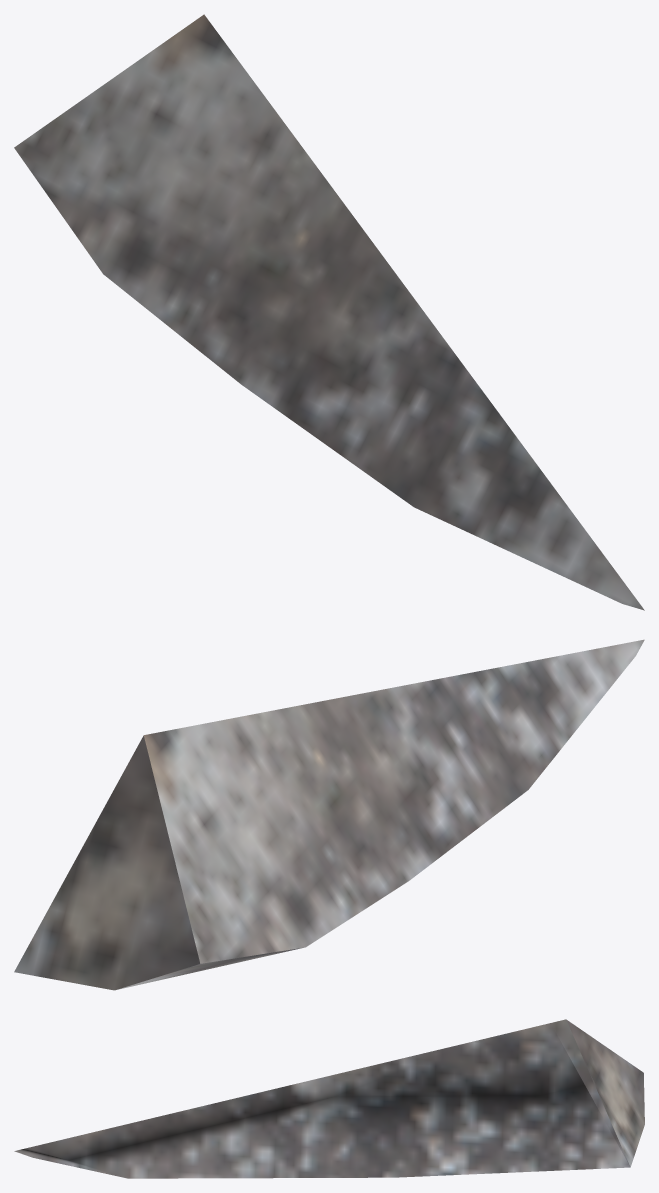
The model's file is Asteroid_Large_001_02_008_03_007.fbx.
3 views of the same model, one above another, from view 1: azimuth 30°, elevation 25°; view 2: azimuth 150°, elevation 25°; view 3: azimuth 270°, elevation 25° (orthographic). The views are drawn at different scales.
Visible parts, largest first — view 1: Asteroid_Large_001_02_008_03_007; view 2: Asteroid_Large_001_02_008_03_007; view 3: Asteroid_Large_001_02_008_03_007.
Boxes of the visible parts, x1,y1,x2,y2 form: Asteroid_Large_001_02_008_03_007: (14, 14, 644, 610); Asteroid_Large_001_02_008_03_007: (14, 639, 644, 990); Asteroid_Large_001_02_008_03_007: (14, 1019, 644, 1178).
Bounding box in the file's own units: 1.08 × 1.36 × 4.87.
